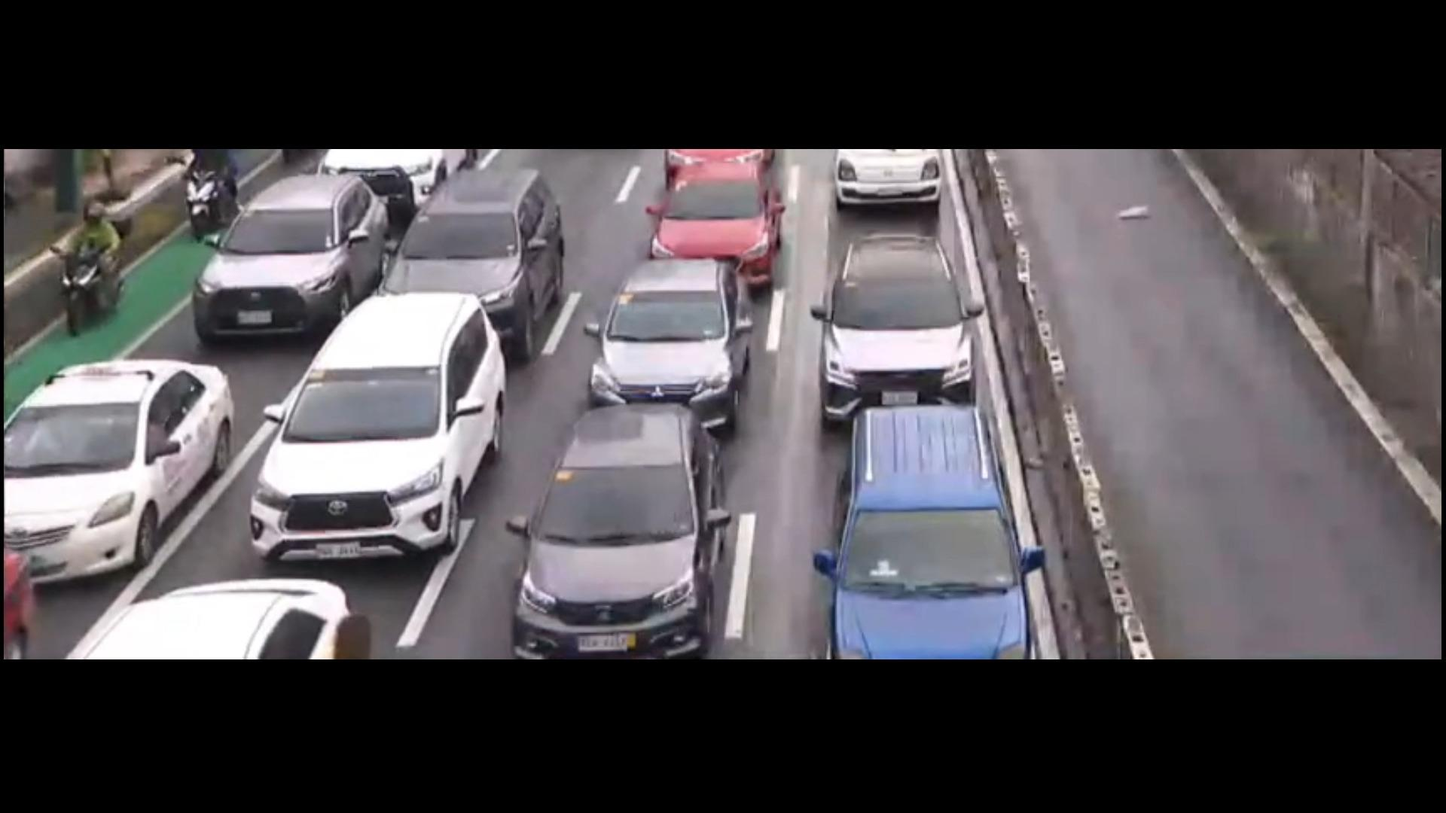Motorcycle: (40, 201, 145, 331), (172, 147, 234, 236)
SUV: (239, 300, 500, 580), (812, 388, 1057, 647), (175, 166, 392, 352), (394, 160, 592, 327), (816, 228, 976, 425)
Sedan: (502, 397, 748, 658), (0, 343, 243, 572), (553, 262, 776, 435), (49, 578, 368, 664), (638, 145, 789, 266)
